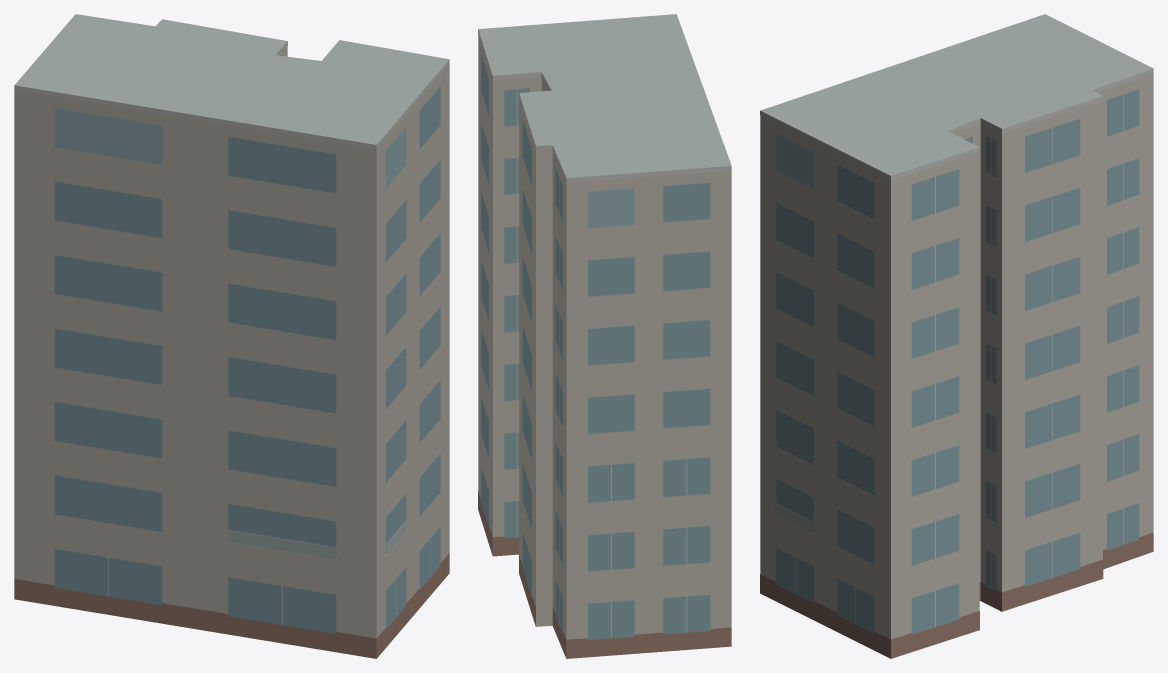
Rendered from survey-upis-33024411.glb.
The picture shows the model from 3 angles, left to right: view 1: azimuth 30°, elevation 25°; view 2: azimuth 150°, elevation 25°; view 3: azimuth 270°, elevation 25°; orthographic projection. The views are drawn at different scales.
Parts seen in each view (by area): view 1: survey-upis-33024411.tmp; view 2: survey-upis-33024411.tmp; view 3: survey-upis-33024411.tmp.
Part boxes in pixels (x1,y1,x2,y2): survey-upis-33024411.tmp: (14, 14, 449, 658); survey-upis-33024411.tmp: (478, 14, 731, 658); survey-upis-33024411.tmp: (760, 14, 1153, 658).
Bounding box in the file's own units: 18.34 × 25.5 × 18.84.
